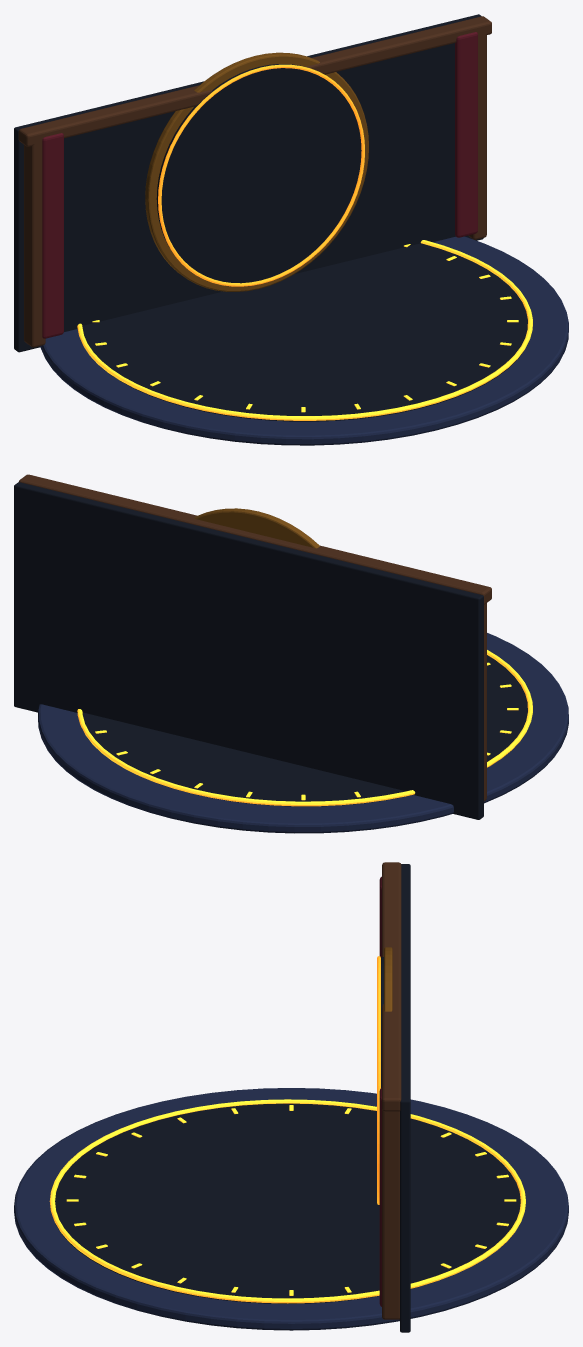
The model's file is wc_stage_shell_blockout.glb.
3 views of the same model, one above another, from view 1: azimuth 30°, elevation 25°; view 2: azimuth 150°, elevation 25°; view 3: azimuth 270°, elevation 25° (orthographic). The views are drawn at different scales.
Parts seen in each view (by area): view 1: StageInnerDisk, BackWall, RearMedallionFace, StageDisk, TopBeam, RearMedallion, RightCurtain, LeftCurtain, LeftBeam, StageGoldRing, RearMedallionGlow, RightBeam; view 2: BackWall, StageDisk, StageInnerDisk, TopBeam, StageGoldRing, RearMedallion, LeftBeam; view 3: StageInnerDisk, StageDisk, StageGoldRing, BackWall, TopBeam, RightBeam, RearMedallionGlow, RightCurtain, RearMedallion.
Boxes of the visible parts, bbox=[...] form: StageInnerDisk: bbox=[82, 243, 527, 421]; BackWall: bbox=[14, 14, 483, 352]; RearMedallionFace: bbox=[156, 64, 361, 283]; StageDisk: bbox=[40, 236, 568, 445]; TopBeam: bbox=[18, 16, 491, 146]; RearMedallion: bbox=[145, 52, 368, 291]; RightCurtain: bbox=[455, 32, 477, 237]; LeftCurtain: bbox=[42, 133, 63, 338]; LeftBeam: bbox=[24, 135, 45, 347]; StageGoldRing: bbox=[77, 240, 532, 420]; RearMedallionGlow: bbox=[158, 64, 364, 286]; RightBeam: bbox=[468, 34, 486, 239]; BackWall: bbox=[14, 482, 483, 819]; StageDisk: bbox=[38, 633, 568, 833]; StageInnerDisk: bbox=[82, 655, 527, 806]; TopBeam: bbox=[19, 474, 491, 604]; StageGoldRing: bbox=[77, 650, 532, 806]; RearMedallion: bbox=[194, 508, 319, 548]; LeftBeam: bbox=[484, 603, 486, 801]; StageInnerDisk: bbox=[55, 1103, 520, 1303]; StageDisk: bbox=[14, 1088, 568, 1330]; StageGoldRing: bbox=[49, 1099, 525, 1303]; BackWall: bbox=[400, 864, 410, 1332]; TopBeam: bbox=[382, 862, 401, 1111]; RightBeam: bbox=[382, 1109, 399, 1319]; RearMedallionGlow: bbox=[377, 956, 380, 1204]; RightCurtain: bbox=[379, 1088, 381, 1306]; RearMedallion: bbox=[384, 947, 392, 1011].
Size of the model in its own units: 15.8 by 7.9 by 15.6.
